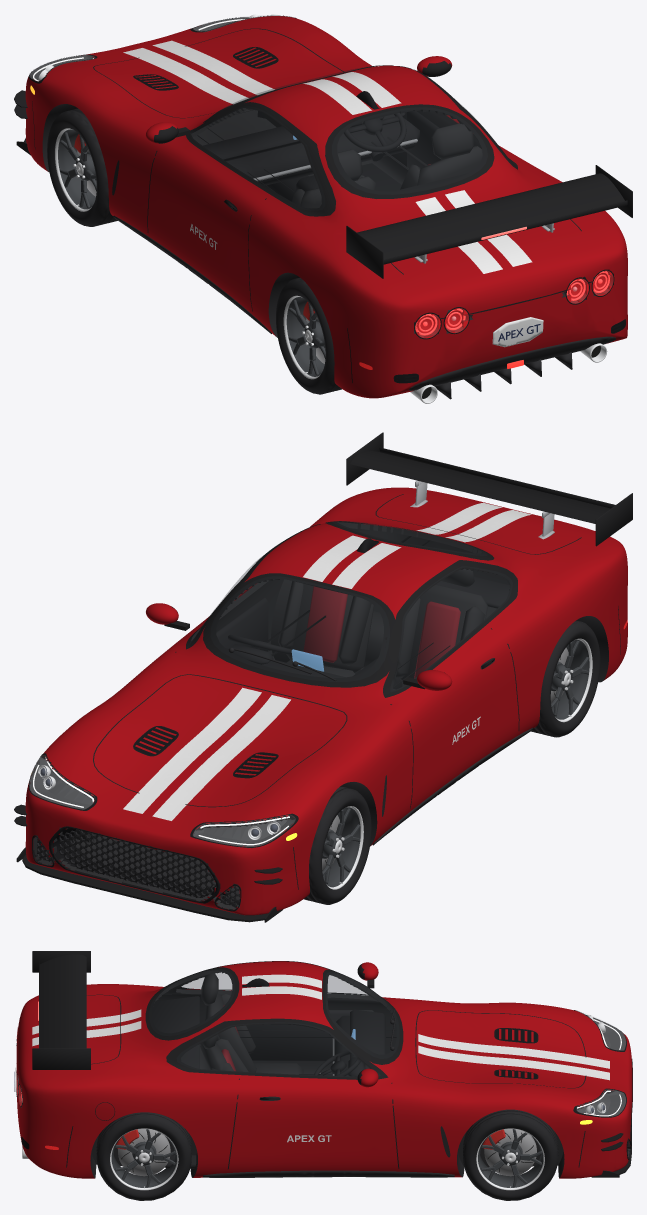
The model's file is apex.glb.
3 renders of one model, top to bottom at view 1: azimuth 30°, elevation 25°; view 2: azimuth 150°, elevation 25°; view 3: azimuth 270°, elevation 25°, orthographic. The views are drawn at different scales.
Visible parts, largest first — view 1: Body, Win_Rear, WG_Main, Win_Side, Int_Dash, Win_Rear_Trim, Win_Side_Trim, Det_StripeHood, Tire_p_FL, Tire_p_RL, Diffuser, Det_StripeTrunk (+24 smaller); view 2: Body, Win_Front, Win_Side, Det_StripeHood, WG_Main, GR_Honeycomb, Win_Front_Trim, Win_Side_Trim, Tire_p_FL, Tire_p_RL, HL_Housing, Int_SeatCtr_R (+26 smaller); view 3: Body, Win_Side, WG_Main, Win_Front, Win_Rear, Tire_p_FR, Tire_p_RR, Det_StripeHood, Int_DoorCard_0, Win_Side_Trim, Int_Shelf, Rocker (+25 smaller).
Boxes of the visible parts, bbox=[...] form: Body: bbox=[25, 16, 627, 398]; Win_Rear: bbox=[332, 107, 487, 194]; WG_Main: bbox=[357, 173, 624, 259]; Win_Side: bbox=[190, 103, 499, 210]; Int_Dash: bbox=[226, 118, 419, 185]; Win_Rear_Trim: bbox=[325, 104, 494, 198]; Win_Side_Trim: bbox=[186, 66, 517, 216]; Det_StripeHood: bbox=[123, 40, 274, 104]; Tire_p_FL: bbox=[47, 108, 117, 226]; Tire_p_RL: bbox=[276, 277, 341, 394]; Diffuser: bbox=[409, 336, 615, 390]; Det_StripeTrunk: bbox=[415, 190, 532, 273]; Body: bbox=[25, 487, 627, 915]; Win_Front: bbox=[210, 576, 389, 681]; Win_Side: bbox=[190, 556, 512, 691]; Det_StripeHood: bbox=[123, 687, 290, 820]; WG_Main: bbox=[350, 451, 610, 523]; GR_Honeycomb: bbox=[58, 829, 216, 897]; Win_Front_Trim: bbox=[203, 573, 398, 687]; Win_Side_Trim: bbox=[186, 524, 517, 697]; Tire_p_FL: bbox=[303, 786, 371, 904]; Tire_p_RL: bbox=[531, 620, 600, 737]; HL_Housing: bbox=[29, 756, 294, 846]; Int_SeatCtr_R: bbox=[303, 586, 347, 662]; Body: bbox=[16, 961, 632, 1178]; Win_Side: bbox=[177, 1022, 380, 1076]; WG_Main: bbox=[40, 954, 86, 1048]; Win_Front: bbox=[325, 972, 399, 1058]; Win_Rear: bbox=[149, 969, 234, 1035]; Tire_p_FR: bbox=[463, 1109, 558, 1200]; Tire_p_RR: bbox=[96, 1112, 191, 1200]; Det_StripeHood: bbox=[418, 1034, 609, 1080]; Int_DoorCard_0: bbox=[246, 1010, 373, 1061]; Win_Side_Trim: bbox=[166, 961, 388, 1079]; Int_Shelf: bbox=[152, 996, 199, 1068]; Rocker: bbox=[203, 1170, 454, 1177].
Bounding box in the file's own units: 2.01 × 1.36 × 4.43.
